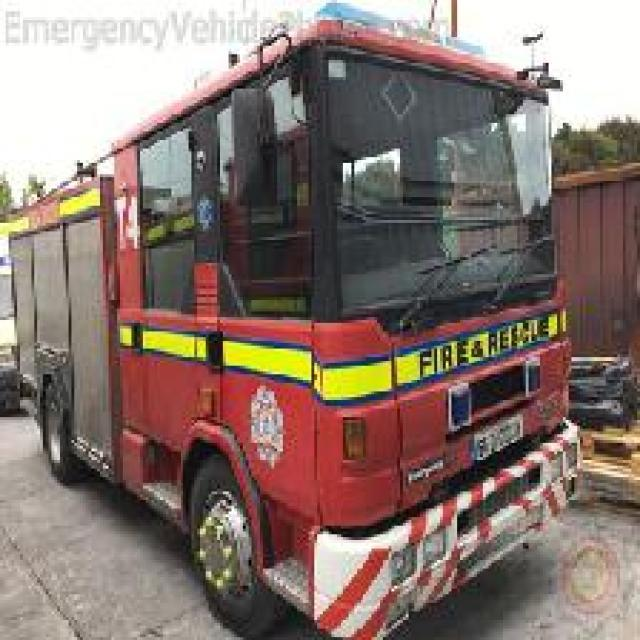emergency: (6, 15, 588, 638)
